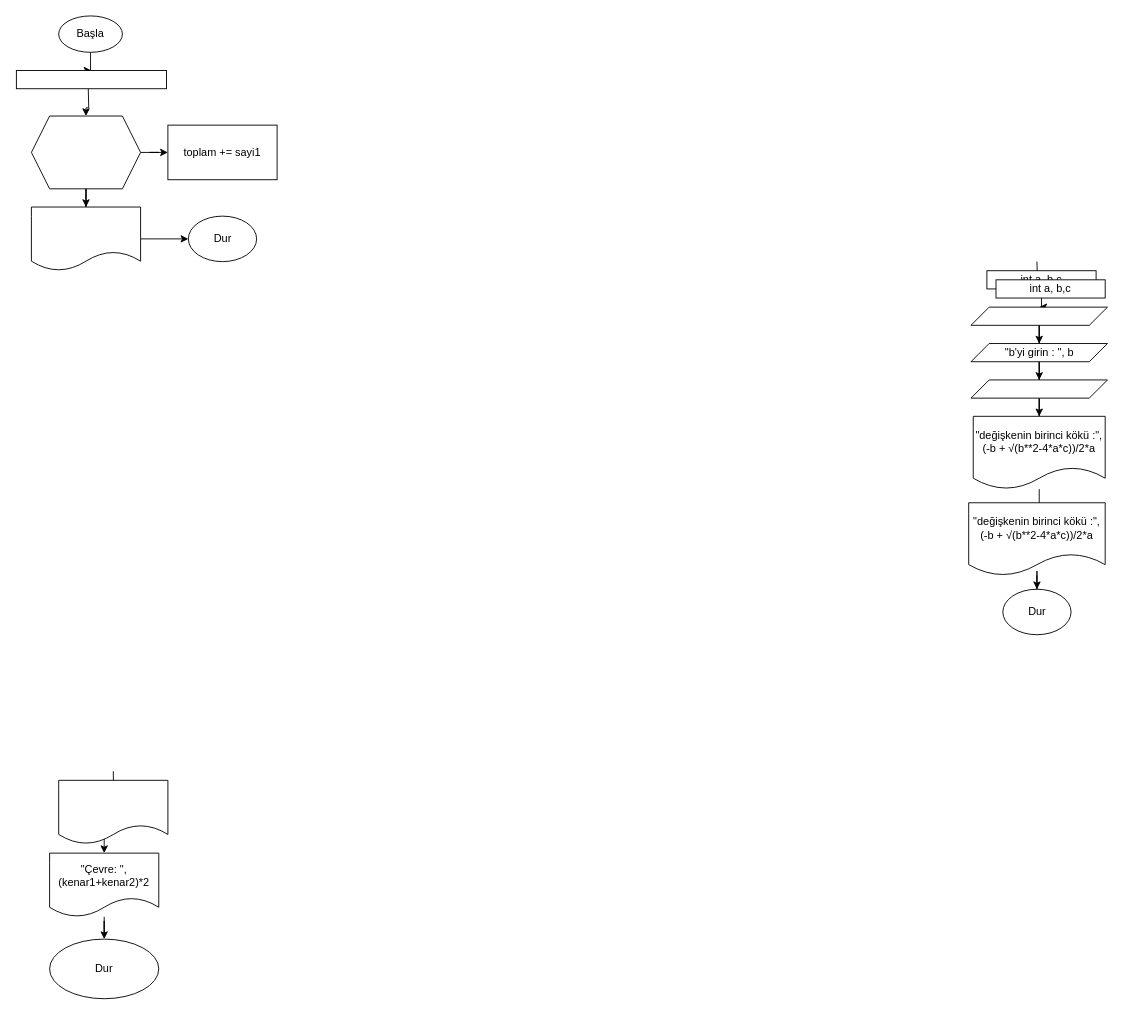
Some shapes in this 1123 by 1015 pixel diagram are drawn without their labels. The shapes that lost their labels are listed below. From the top down, each one's centre as x and y in pixels, then its label:
[91,79]: int sayi1 = 1, toplam = 0
[85,152]: sayi1,50,1
[85,238]: "ilk 50 sayının toplamı",toplam
[1038,315]: "a'yı girin : ", a
[1038,388]: "c'yi girin : ", c
[113,811]: "Alan: ", kenar1*kenar2
